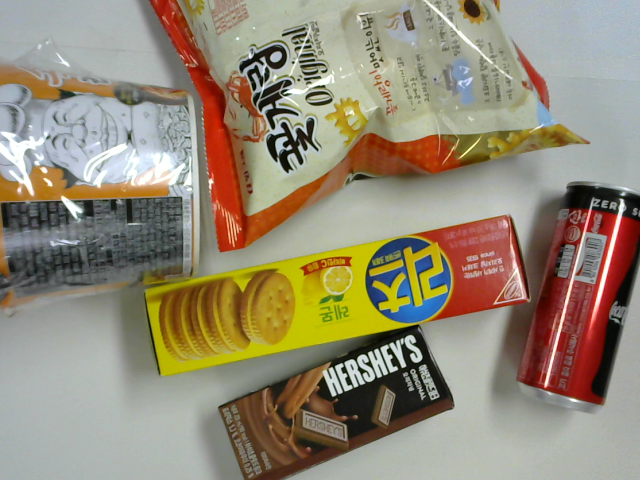Coca_Cola_Zero_Can_250ml: (517, 181, 640, 413)
Crabrang: (152, 1, 590, 253)
Hejangchan: (1, 59, 202, 316)
Hush_Choco_Drink: (219, 322, 454, 480)
Ritz_Remon_96g: (145, 213, 530, 376)
